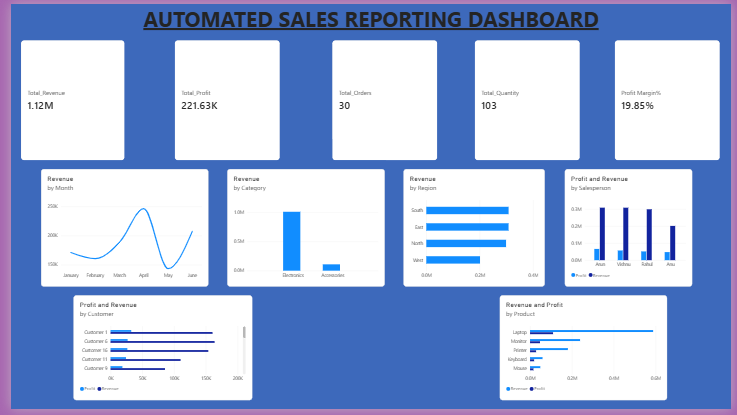

What the dashboard file says about the page in this screenshot:
{"tool":"powerbi","page":{"name":"Page 1","canvas":[1920,1080],"ordinal":0},"visuals":[{"type":"cardVisual","fields":{"Data":["Sum(automated_reporting reporting_summary.Total_Revenue)"]},"box":[26.7,96.7,276.7,320],"z":0},{"type":"cardVisual","fields":{"Data":["Sum(automated_reporting reporting_summary.Total_Profit)"]},"box":[436.7,96.7,280,320],"z":1000},{"type":"cardVisual","fields":{"Data":["Sum(automated_reporting reporting_summary.Total_Orders)"]},"box":[856.7,96.7,280,320],"z":2000},{"type":"cardVisual","fields":{"Data":["Sum(automated_reporting reporting_summary.Total_Quantity)"]},"box":[1236.7,96.7,280,320],"z":3000},{"type":"cardVisual","fields":{"Data":["automated_reporting reporting_summary.Profit Margin%"]},"box":[1610,96.7,280,320],"z":4000},{"type":"lineChart","fields":{"Category":["automated_reporting sales_report.Order_Date.Variation.Date Hierarchy.Month"],"Y":["Sum(automated_reporting sales_report.Revenue)"]},"box":[80,440,446.7,313.3],"z":5000},{"type":"clusteredColumnChart","fields":{"Category":["automated_reporting sales_report.Category"],"Y":["Sum(automated_reporting sales_report.Revenue)"]},"box":[576.7,440,420,313.3],"z":6000},{"type":"clusteredBarChart","fields":{"Category":["automated_reporting sales_report.Region"],"Y":["Sum(automated_reporting sales_report.Revenue)"]},"box":[1046.7,440,376.7,313.3],"z":7000},{"type":"clusteredColumnChart","fields":{"Category":["automated_reporting sales_report.Salesperson"],"Y":["Sum(automated_reporting sales_report.Profit)","Sum(automated_reporting sales_report.Revenue)"]},"box":[1476.7,440,340,313.3],"z":8000},{"type":"clusteredBarChart","fields":{"Category":["automated_reporting sales_report.Product"],"Y":["Sum(automated_reporting sales_report.Revenue)","Sum(automated_reporting sales_report.Profit)"]},"box":[1303.3,776.7,446.7,280],"z":9000},{"type":"clusteredBarChart","fields":{"Category":["automated_reporting sales_report.Customer"],"Y":["Sum(automated_reporting sales_report.Profit)","Sum(automated_reporting sales_report.Revenue)"]},"box":[166.7,776.7,476.7,280],"z":10000},{"type":"textbox","box":[0,0,1920,140],"z":11000}]}

Visuals, with their boxes in screenshot pixels (x1, y1, x2, y2), scaled from the page's 1920x1080 canvas onto the 737x415 screenshot:
cardVisual - Sum(automated_reporting reporting_summary.Total_Revenue): (left=10, top=37, right=116, bottom=160)
cardVisual - Sum(automated_reporting reporting_summary.Total_Profit): (left=168, top=37, right=275, bottom=160)
cardVisual - Sum(automated_reporting reporting_summary.Total_Orders): (left=329, top=37, right=436, bottom=160)
cardVisual - Sum(automated_reporting reporting_summary.Total_Quantity): (left=475, top=37, right=582, bottom=160)
cardVisual - automated_reporting reporting_summary.Profit Margin%: (left=618, top=37, right=725, bottom=160)
lineChart - automated_reporting sales_report.Order_Date.Variation.Date Hierarchy.Month x Sum(automated_reporting sales_report.Revenue): (left=31, top=169, right=202, bottom=289)
clusteredColumnChart - automated_reporting sales_report.Category x Sum(automated_reporting sales_report.Revenue): (left=221, top=169, right=383, bottom=289)
clusteredBarChart - automated_reporting sales_report.Region x Sum(automated_reporting sales_report.Revenue): (left=402, top=169, right=546, bottom=289)
clusteredColumnChart - automated_reporting sales_report.Salesperson x Sum(automated_reporting sales_report.Profit): (left=567, top=169, right=697, bottom=289)
clusteredBarChart - automated_reporting sales_report.Product x Sum(automated_reporting sales_report.Revenue): (left=500, top=298, right=672, bottom=406)
clusteredBarChart - automated_reporting sales_report.Customer x Sum(automated_reporting sales_report.Profit): (left=64, top=298, right=247, bottom=406)
textbox: (left=0, top=0, right=736, bottom=54)
